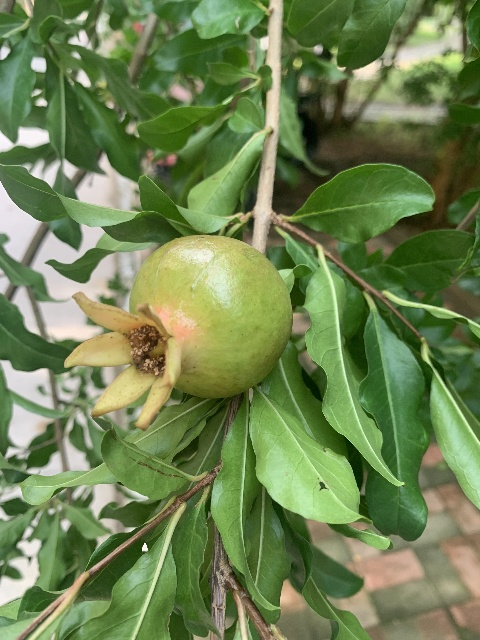mid-growth: (64, 235, 292, 429)
